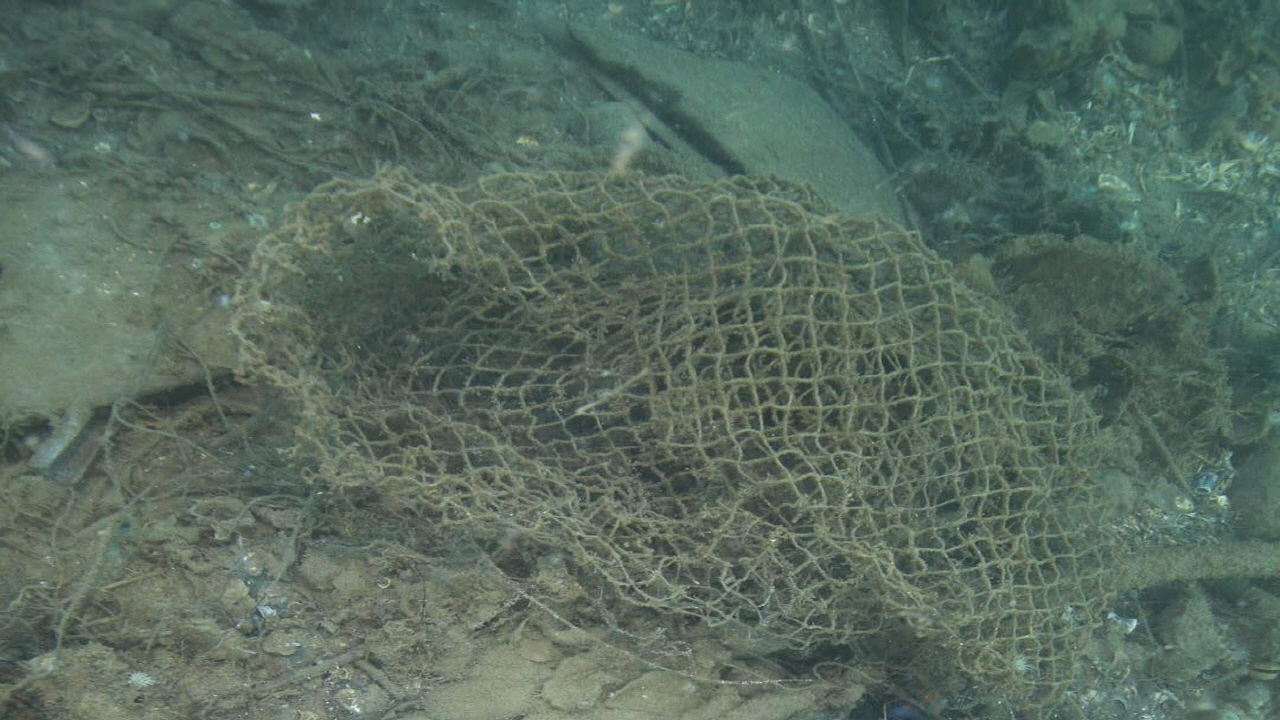fish net: (228, 169, 1126, 708)
